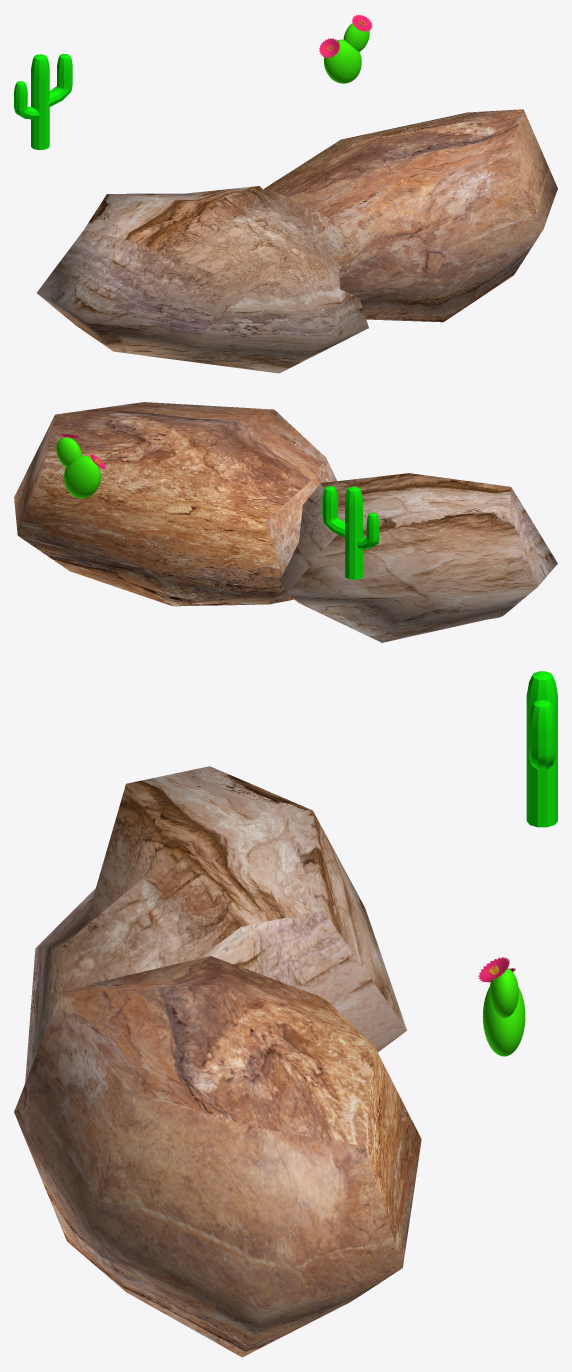
File: Land6.obj
The picture shows the model from 3 angles, top to bottom: view 1: azimuth 30°, elevation 25°; view 2: azimuth 150°, elevation 25°; view 3: azimuth 270°, elevation 25°; orthographic projection. The views are drawn at different scales.
Visible parts, largest first — view 1: RockMedium1:pCube1, RockMedium2:pCube1, group1 MediumCactus:pCylinder1, group2 SmallCactus:pSphere1, group1 MediumCactus:pCylinder2, MediumCactus:pCylinder3 group1, group2 SmallCactus:pSphere2; view 2: RockMedium2:pCube1, RockMedium1:pCube1, group1 MediumCactus:pCylinder1, group2 SmallCactus:pSphere1, group1 MediumCactus:pCylinder2, group2 SmallCactus:pSphere2, MediumCactus:pCylinder3 group1; view 3: RockMedium2:pCube1, RockMedium1:pCube1, group1 MediumCactus:pCylinder1, group2 SmallCactus:pSphere1, group1 MediumCactus:pCylinder2, group2 SmallCactus:pSphere2.
Boxes of the visible parts, x1,y1,x2,y2 form: RockMedium1:pCube1: (37,186,368,373); RockMedium2:pCube1: (263,109,557,322); group1 MediumCactus:pCylinder1: (31,54,49,150); group2 SmallCactus:pSphere1: (324,39,361,83); group1 MediumCactus:pCylinder2: (48,54,72,106); MediumCactus:pCylinder3 group1: (14,81,40,119); group2 SmallCactus:pSphere2: (343,23,369,51); RockMedium2:pCube1: (14,402,336,606); RockMedium1:pCube1: (279,473,557,642); group1 MediumCactus:pCylinder1: (345,486,362,579); group2 SmallCactus:pSphere1: (64,455,100,498); group1 MediumCactus:pCylinder2: (322,486,345,537); group2 SmallCactus:pSphere2: (56,437,81,467); MediumCactus:pCylinder3 group1: (357,512,379,549); RockMedium2:pCube1: (14,956,421,1357); RockMedium1:pCube1: (25,766,406,1083); group1 MediumCactus:pCylinder1: (526,671,557,827); group2 SmallCactus:pSphere1: (482,987,525,1056); group1 MediumCactus:pCylinder2: (529,700,555,769); group2 SmallCactus:pSphere2: (489,968,518,1018).
Size of the model in its own units: 6.84 by 2.98 by 3.73.
Materials: 6 (2 with a texture image).
